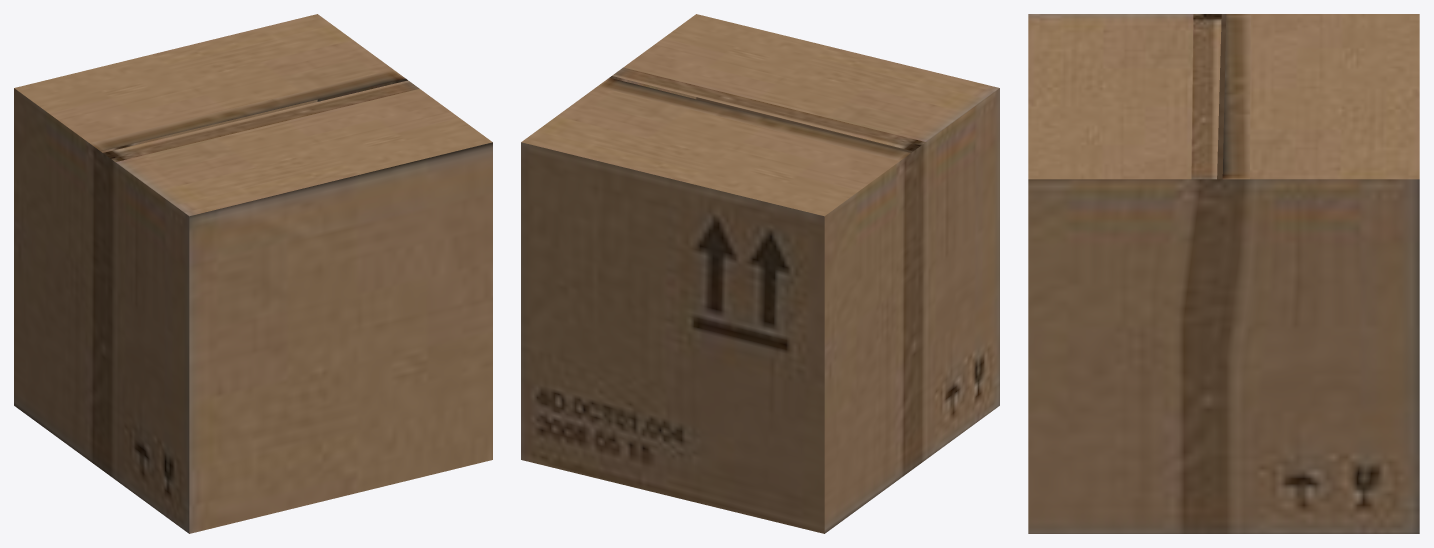
File: caja carton.fbx
3 renders of one model, left to right at view 1: azimuth 30°, elevation 25°; view 2: azimuth 150°, elevation 25°; view 3: azimuth 270°, elevation 25°, orthographic. The views are drawn at different scales.
Visible parts, largest first — view 1: Cube; view 2: Cube; view 3: Cube.
Part boxes in pixels (x1,y1,x2,y2): Cube: (14, 14, 492, 533); Cube: (521, 14, 999, 533); Cube: (1028, 14, 1419, 533).
Bounding box in the file's own units: 200 × 200 × 200.
1 material, 1 textured.
